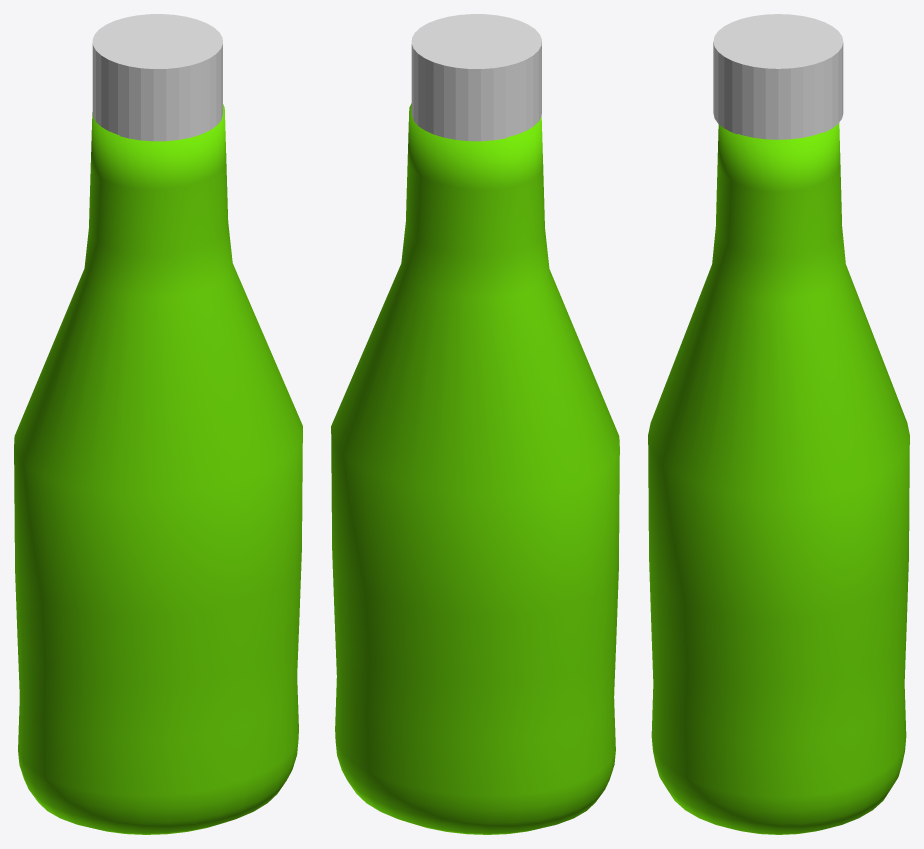
The model's file is poison.fbx.
3 renders of one model, left to right at view 1: azimuth 30°, elevation 25°; view 2: azimuth 150°, elevation 25°; view 3: azimuth 270°, elevation 25°, orthographic.
Parts seen in each view (by area): view 1: Cylinder.047, Cylinder.048; view 2: Cylinder.047, Cylinder.048; view 3: Cylinder.047, Cylinder.048.
Part boxes in pixels (bbox=[...]): Cylinder.047: bbox=[14, 104, 302, 834]; Cylinder.048: bbox=[92, 14, 222, 141]; Cylinder.047: bbox=[331, 103, 619, 834]; Cylinder.048: bbox=[411, 14, 541, 141]; Cylinder.047: bbox=[648, 123, 909, 834]; Cylinder.048: bbox=[713, 14, 843, 139].
Bounding box in the file's own units: 332 × 933 × 293.
